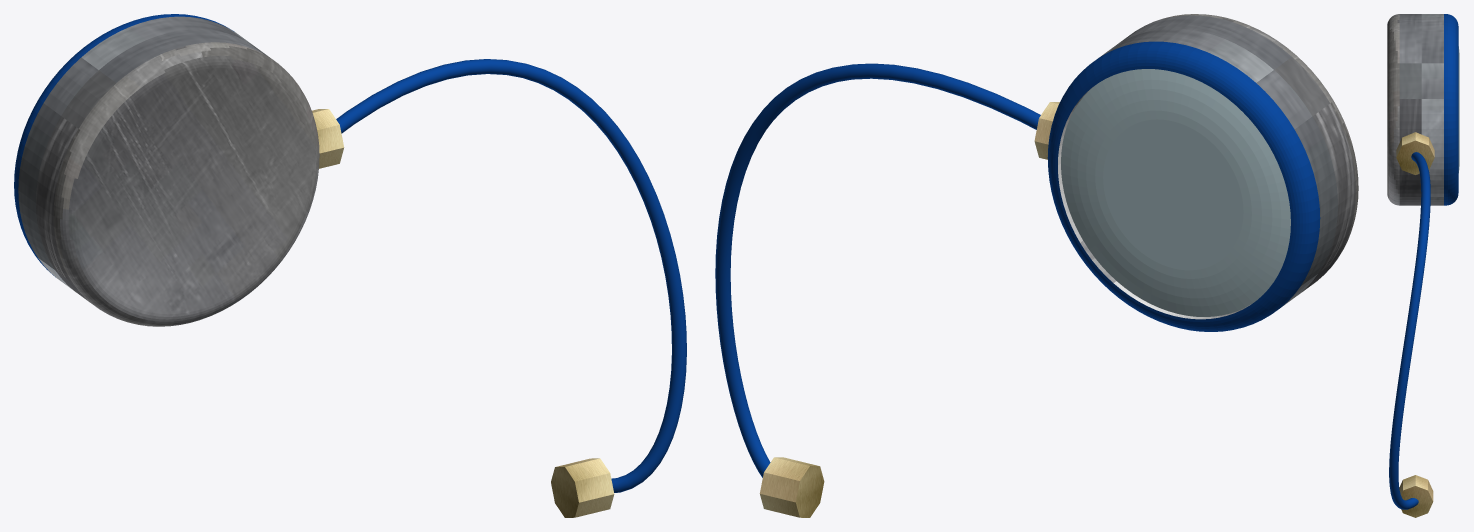
The model's file is manometer_electric.fbx.
The picture shows the model from 3 angles, left to right: view 1: azimuth 30°, elevation 25°; view 2: azimuth 150°, elevation 25°; view 3: azimuth 270°, elevation 25°; orthographic projection. The views are drawn at different scales.
Visible parts, largest first — view 1: manometr.001, truba.001, input_flask.001, input_mano.001; view 2: mano_glass.001, manometr.001, truba.001, input_flask.001, input_mano.001; view 3: manometr.001, truba.001, input_mano.001, input_flask.001, mano_glass.001.
Boxes of the visible parts, x1,y1,x2,y2 form: manometr.001: (14, 14, 319, 326); truba.001: (336, 59, 686, 492); input_flask.001: (551, 458, 614, 517); input_mano.001: (312, 109, 344, 168); mano_glass.001: (1061, 69, 1290, 316); manometr.001: (1047, 14, 1358, 331); truba.001: (715, 63, 1040, 477); input_flask.001: (759, 457, 824, 517); input_mano.001: (1034, 102, 1059, 159); manometr.001: (1387, 14, 1458, 205); truba.001: (1389, 152, 1430, 509); input_mano.001: (1396, 132, 1434, 174); input_flask.001: (1399, 475, 1433, 517); mano_glass.001: (1458, 46, 1459, 172).
Size of the model in its own units: 478 by 419 by 75.81.
